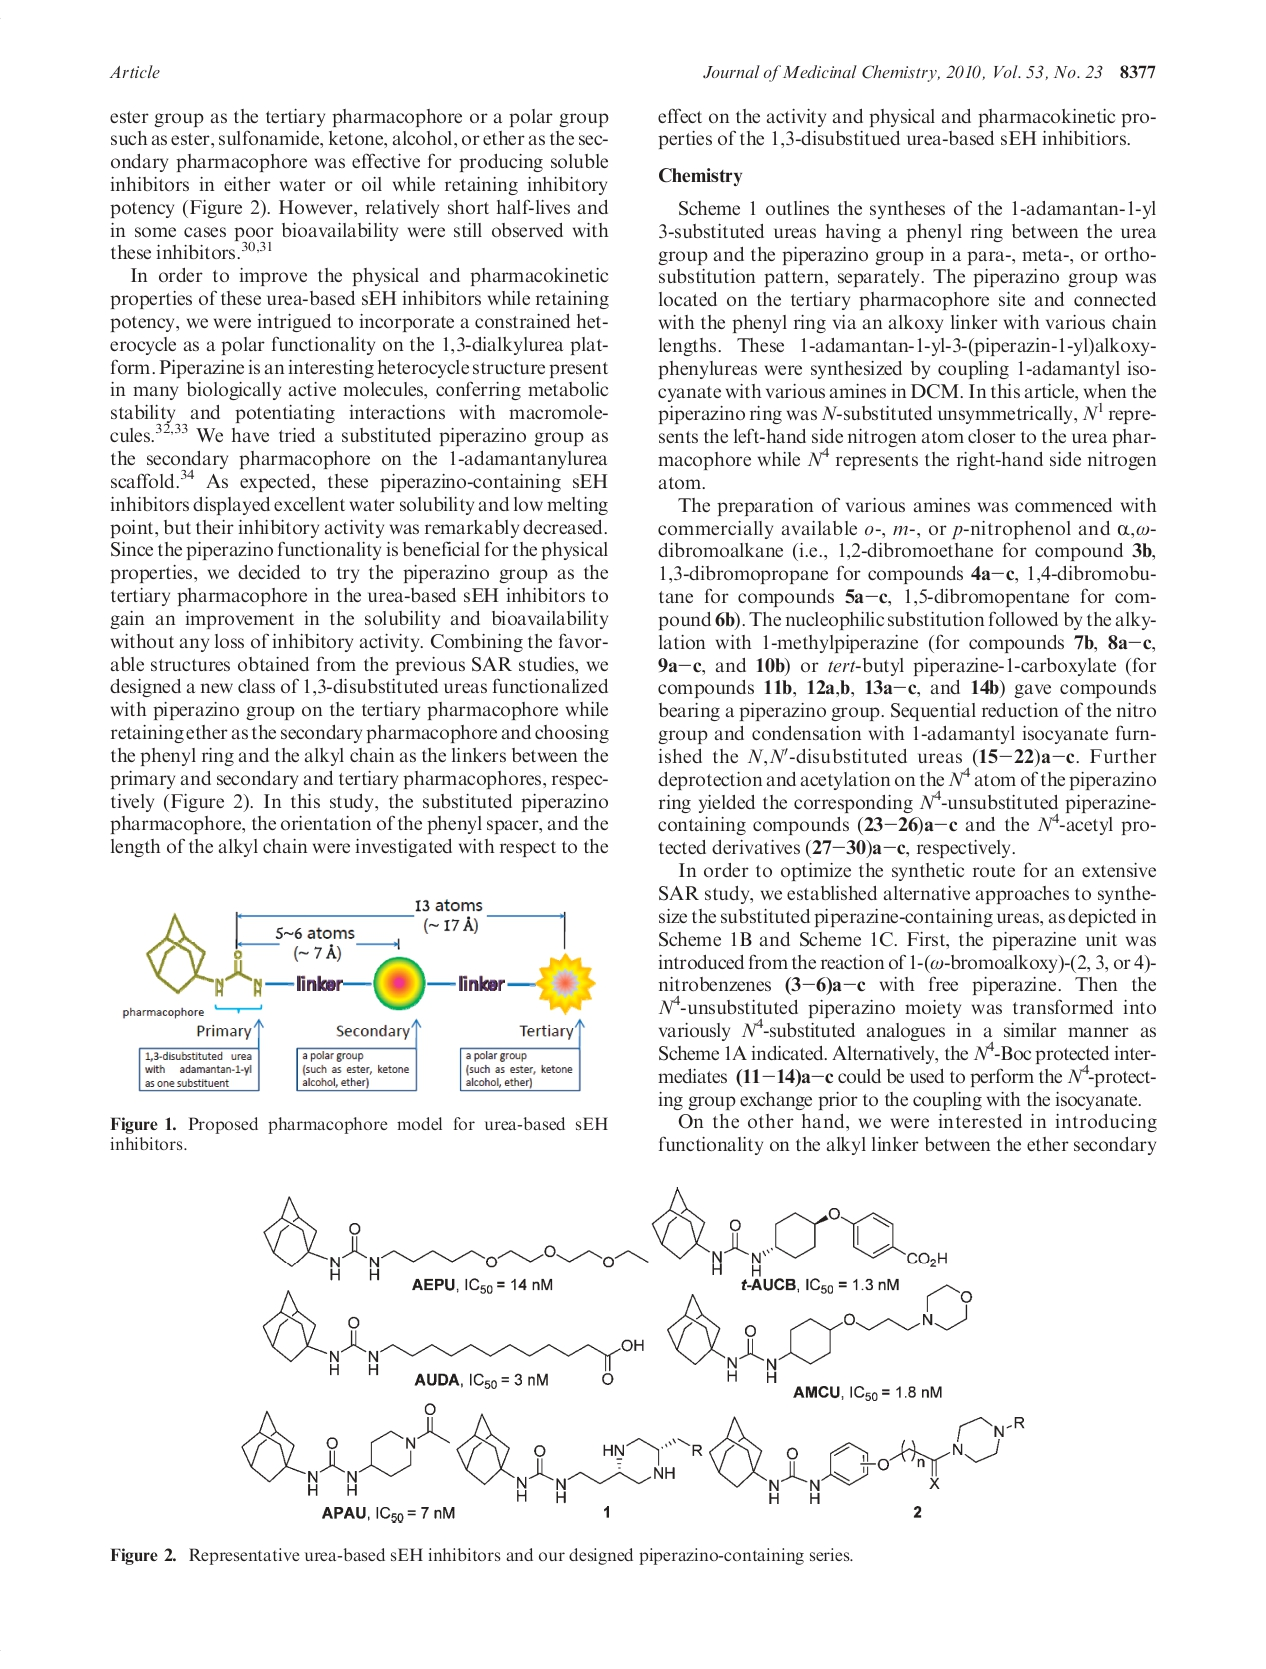exist_molecular: (239, 1400, 1027, 1505), (261, 1287, 648, 1384), (262, 1196, 650, 1282), (666, 1283, 973, 1384), (652, 1186, 951, 1279)
